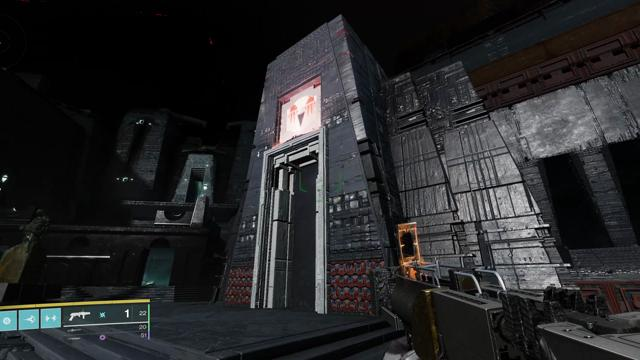give: (286, 95, 317, 132)
